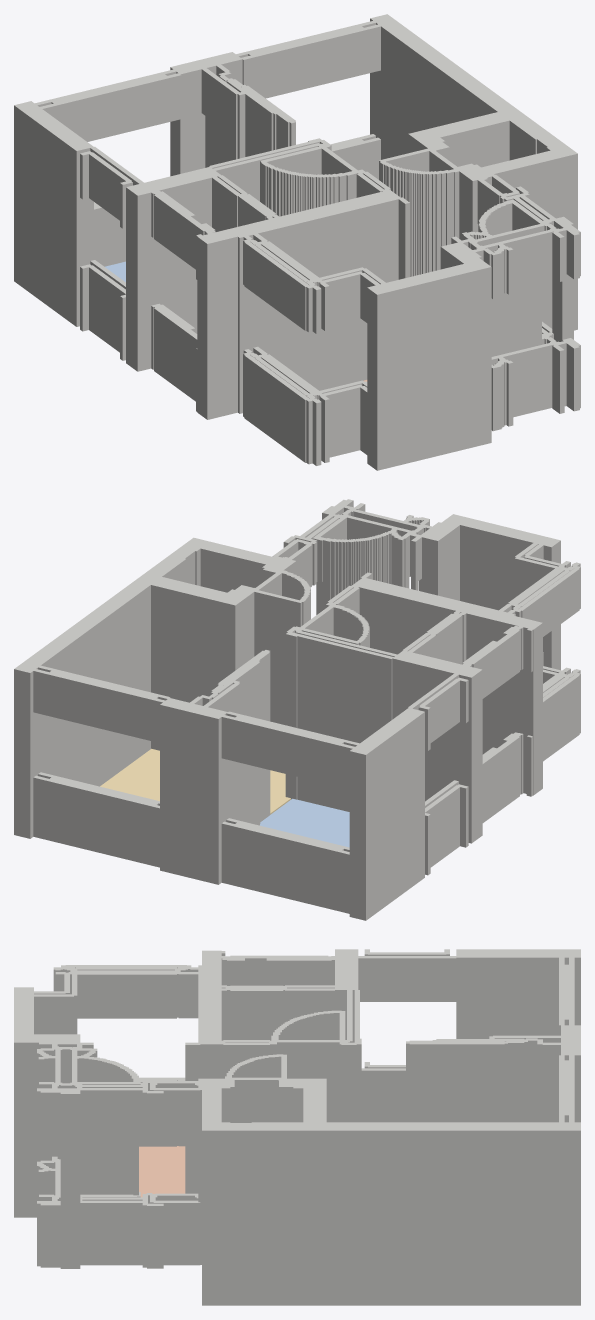
The picture shows the model from 3 angles, top to bottom: view 1: azimuth 30°, elevation 25°; view 2: azimuth 150°, elevation 25°; view 3: azimuth 270°, elevation 25°; orthographic projection. The views are drawn at different scales.
Parts seen in each view (by area): view 1: walls; view 2: walls, room:bedroom:0, room:living:1; view 3: walls, room:kitchen:5.
Boxes of the visible parts, bbox=[...] form: walls: bbox=[14, 14, 580, 470]; walls: bbox=[14, 499, 580, 920]; room:bedroom:0: bbox=[260, 798, 349, 847]; room:living:1: bbox=[100, 748, 290, 814]; walls: bbox=[14, 949, 580, 1305]; room:kitchen:5: bbox=[139, 1146, 185, 1197].
Bounding box in the file's own units: 6.22 × 2.8 × 8.22.
